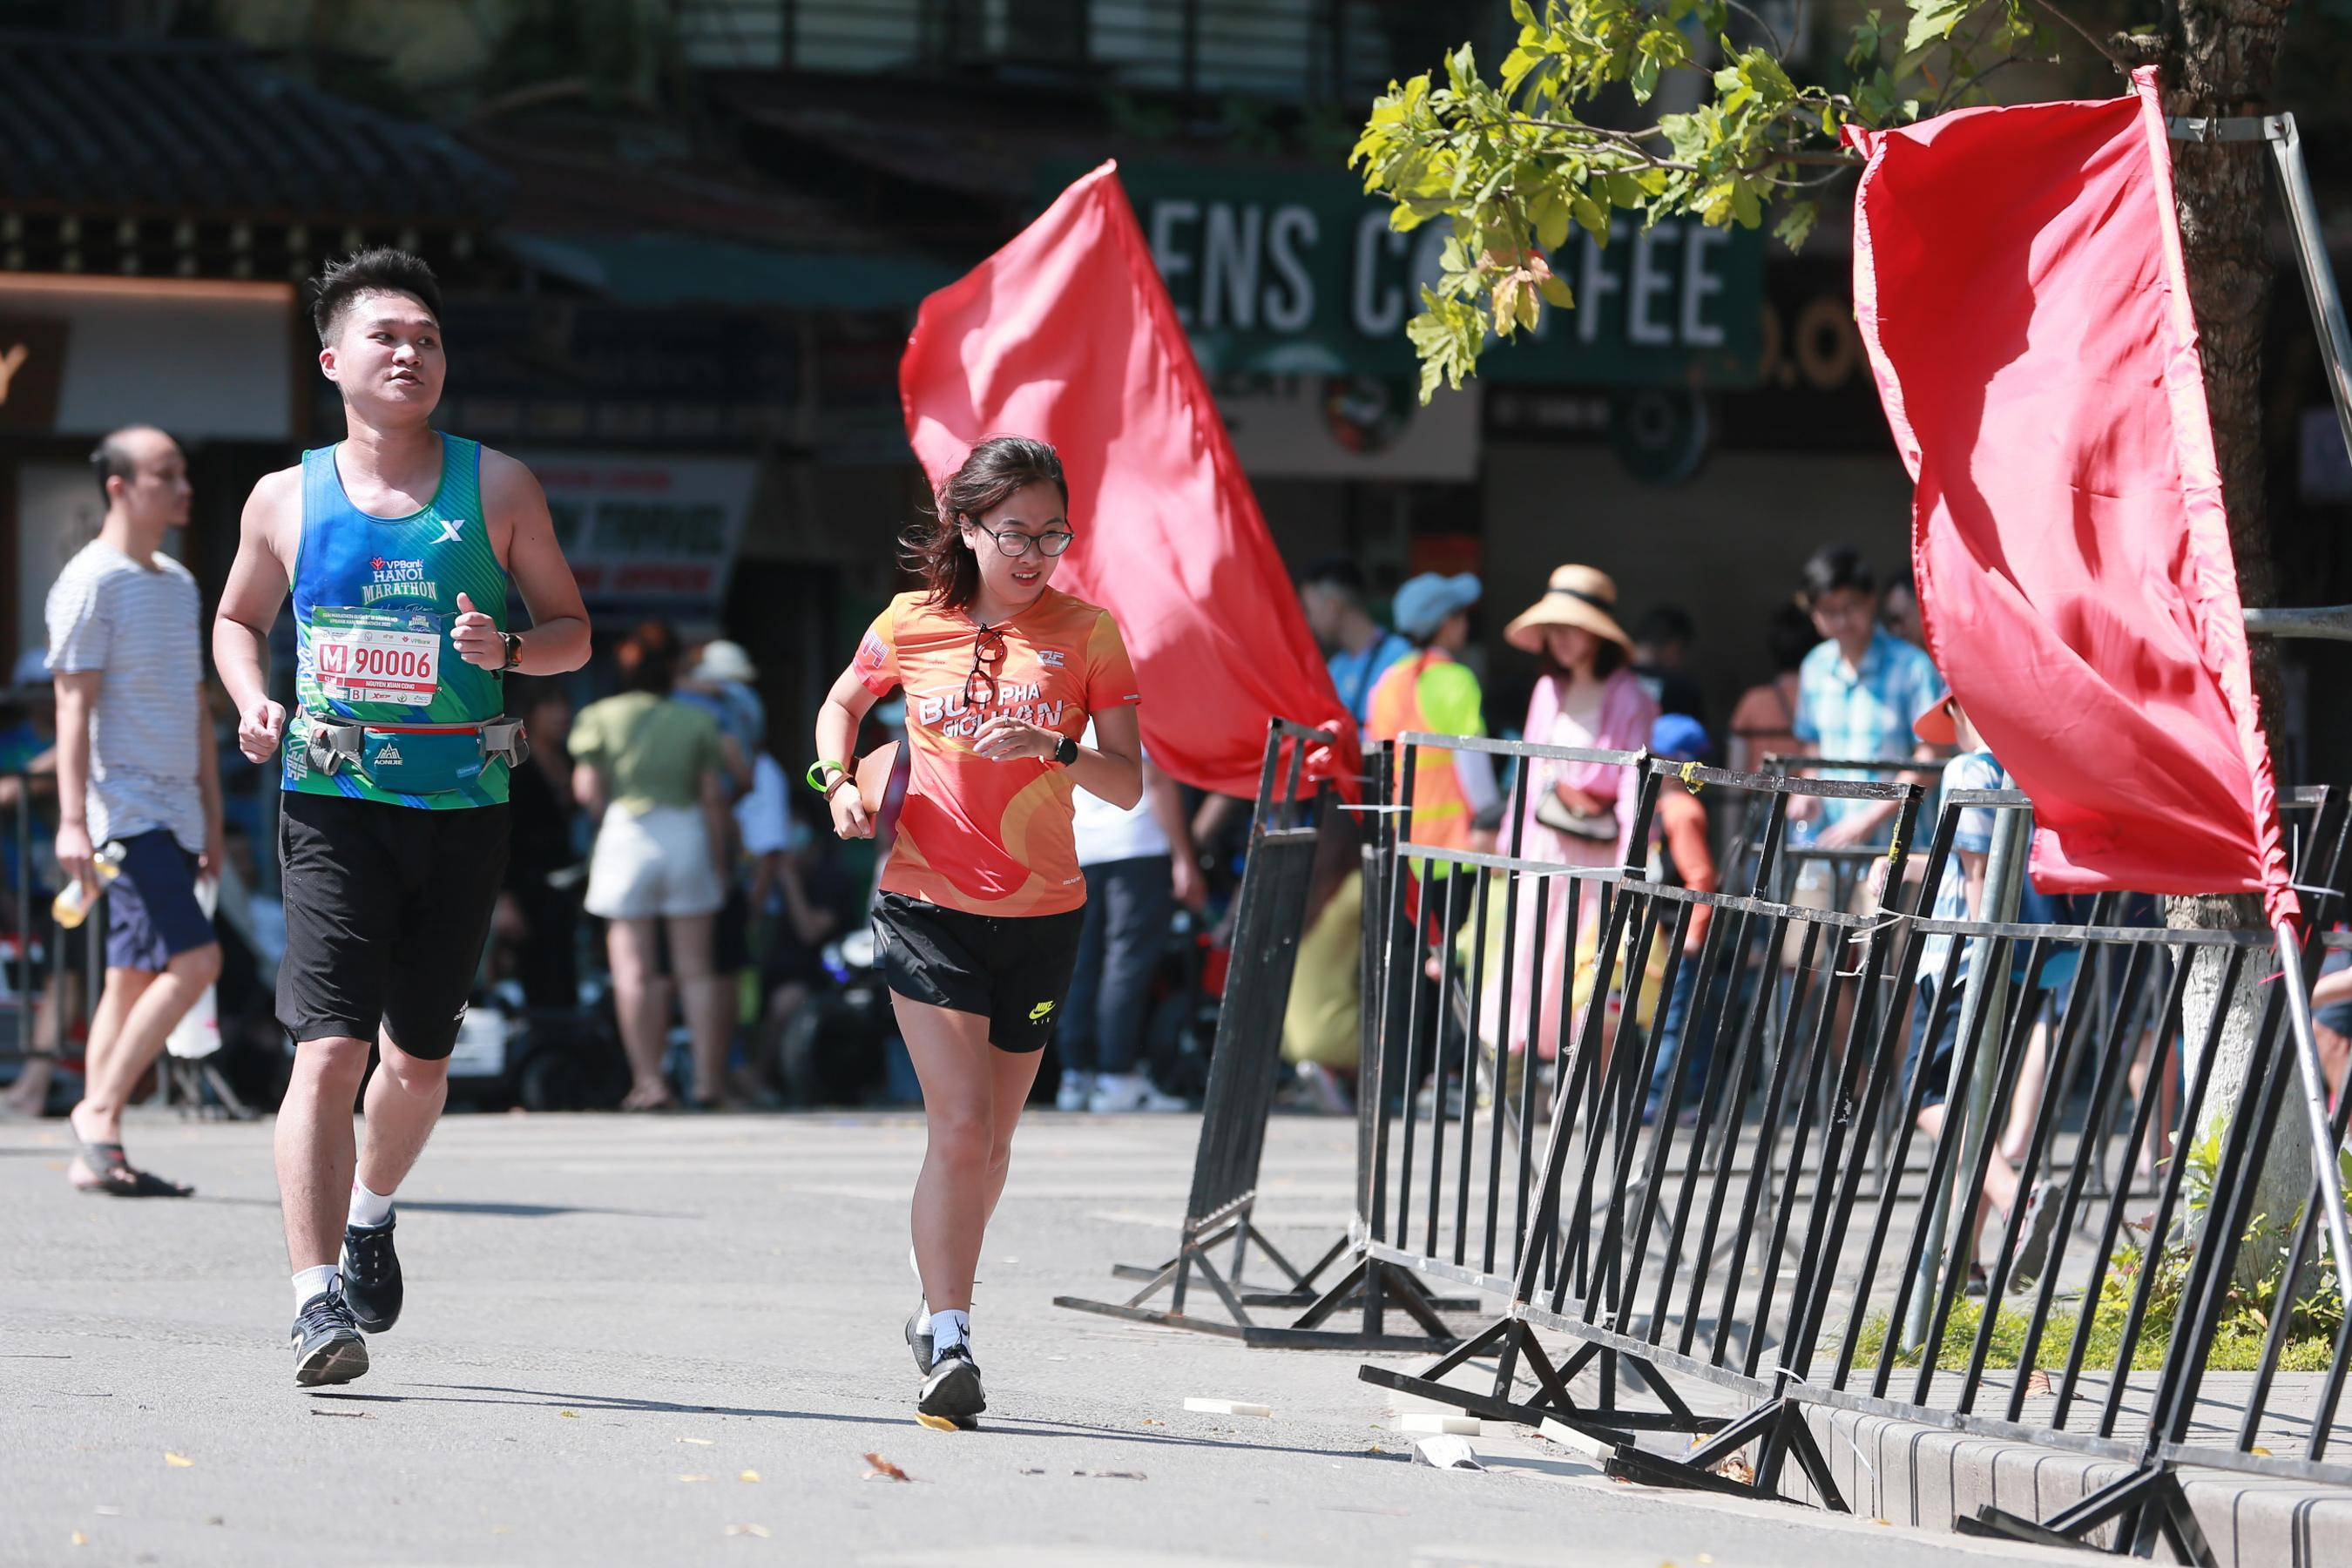bib: (301, 598, 439, 705)
